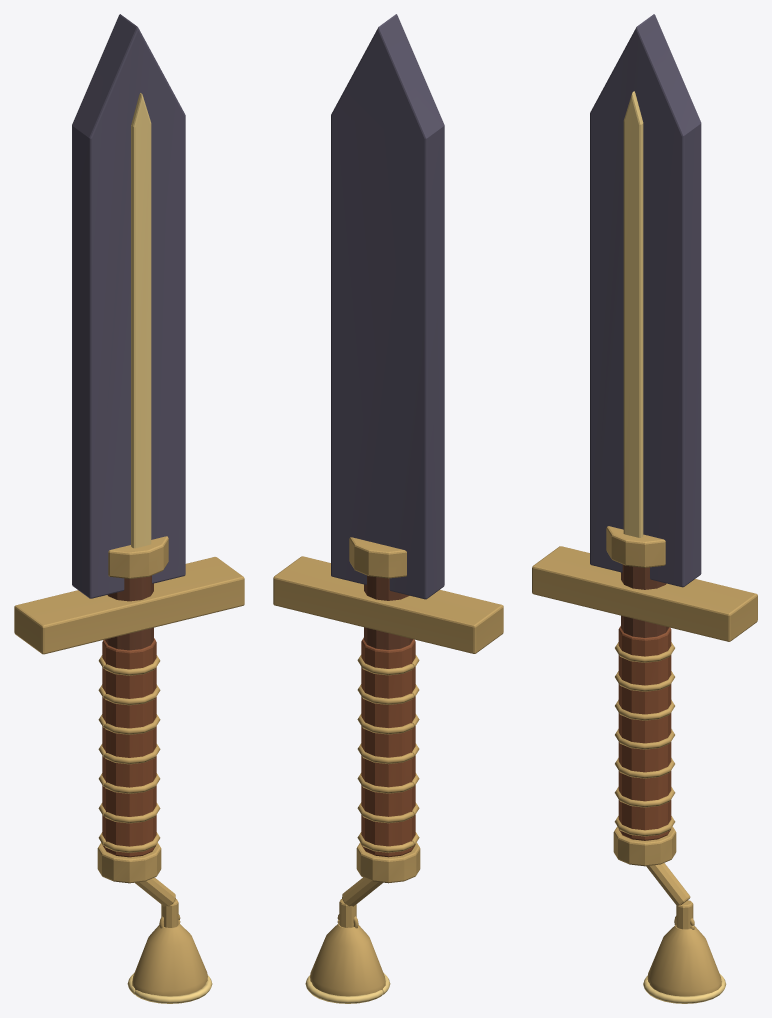
File: item_003.glb
3 renders of one model, left to right at view 1: azimuth 30°, elevation 25°; view 2: azimuth 150°, elevation 25°; view 3: azimuth 330°, elevation 25°, orthographic. The views are drawn at different scales.
Visible parts, largest first — view 1: Item_003_bell_counterweight; view 2: Item_003_bell_counterweight; view 3: Item_003_bell_counterweight.
Boxes of the visible parts, x1,y1,x2,y2 form: Item_003_bell_counterweight: (14,14,244,1003); Item_003_bell_counterweight: (273,14,503,1003); Item_003_bell_counterweight: (532,14,757,1003).
Size of the model in its own units: 0.4 by 1.87 by 0.1452.
